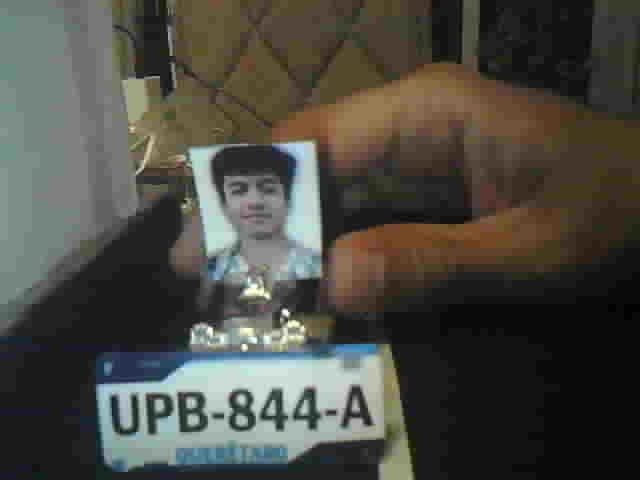PLACA: (91, 341, 390, 473)
ROSTRO: (205, 137, 326, 283)
